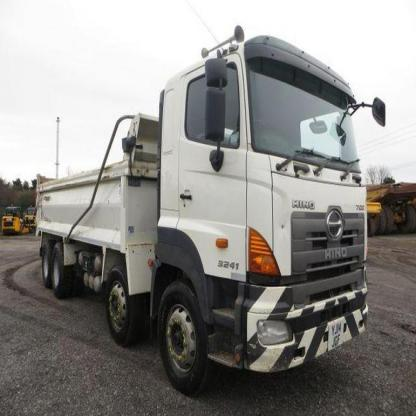dump_truck: (26, 22, 367, 398)
